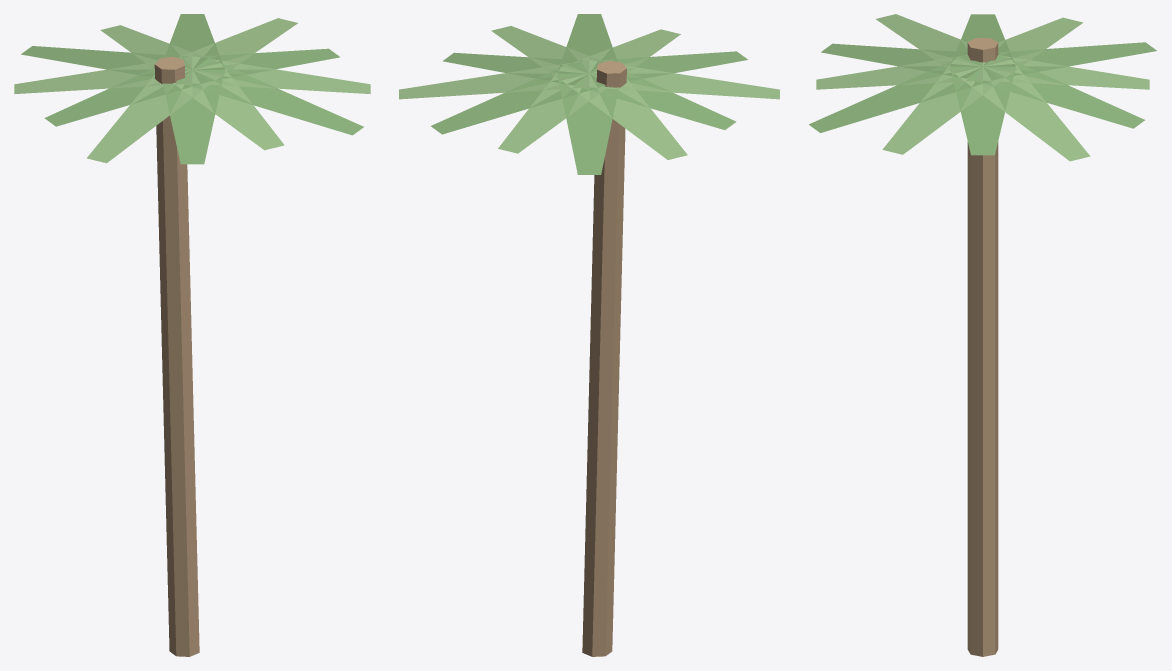
Rendered from veg_tree_fan_palm_01.glb.
The picture shows the model from 3 angles, left to right: view 1: azimuth 30°, elevation 25°; view 2: azimuth 150°, elevation 25°; view 3: azimuth 270°, elevation 25°; orthographic projection. The views are drawn at different scales.
Visible parts, largest first — view 1: trunk, leaf_05, leaf_02, leaf_04, leaf_03, leaf_01, leaf_07, leaf_06, leaf_08, leaf_11, leaf_00, leaf_10 (+1 smaller); view 2: trunk, leaf_08, leaf_07, leaf_10, leaf_11, leaf_05, leaf_09, leaf_06, leaf_04, leaf_00, leaf_02, leaf_01 (+1 smaller); view 3: trunk, leaf_11, leaf_02, leaf_01, leaf_10, leaf_00, leaf_08, leaf_09, leaf_03, leaf_04, leaf_05, leaf_07 (+1 smaller).
Boxes of the visible parts, x1,y1,x2,y2 form: trunk: (154, 56, 199, 656); leaf_05: (87, 68, 220, 163); leaf_02: (176, 58, 363, 135); leaf_04: (163, 70, 224, 164); leaf_03: (173, 63, 284, 150); leaf_01: (192, 56, 370, 94); leaf_07: (14, 56, 192, 94); leaf_06: (44, 64, 208, 126); leaf_08: (21, 46, 207, 81); leaf_11: (177, 18, 297, 76); leaf_00: (178, 48, 339, 81); leaf_10: (164, 14, 224, 69); trunk: (582, 60, 626, 656); leaf_08: (557, 73, 618, 174); leaf_07: (562, 72, 687, 159); leaf_10: (431, 62, 605, 134); leaf_11: (399, 60, 589, 99); leaf_05: (589, 60, 779, 99); leaf_09: (498, 67, 608, 153); leaf_06: (573, 68, 736, 129); leaf_04: (574, 51, 747, 85); leaf_00: (442, 52, 603, 85); leaf_02: (557, 14, 617, 73); leaf_01: (491, 26, 603, 80); trunk: (967, 38, 998, 656); leaf_11: (954, 59, 1090, 161); leaf_02: (809, 54, 998, 132); leaf_01: (882, 59, 1011, 154); leaf_10: (967, 54, 1144, 128); leaf_00: (950, 66, 1015, 155); leaf_08: (966, 42, 1156, 78); leaf_09: (983, 56, 1149, 89); leaf_03: (816, 56, 982, 89); leaf_04: (821, 43, 999, 78); leaf_05: (876, 14, 1010, 73); leaf_07: (955, 17, 1083, 73).
Bounding box in the file's own units: 3.95 × 7.51 × 3.95.
